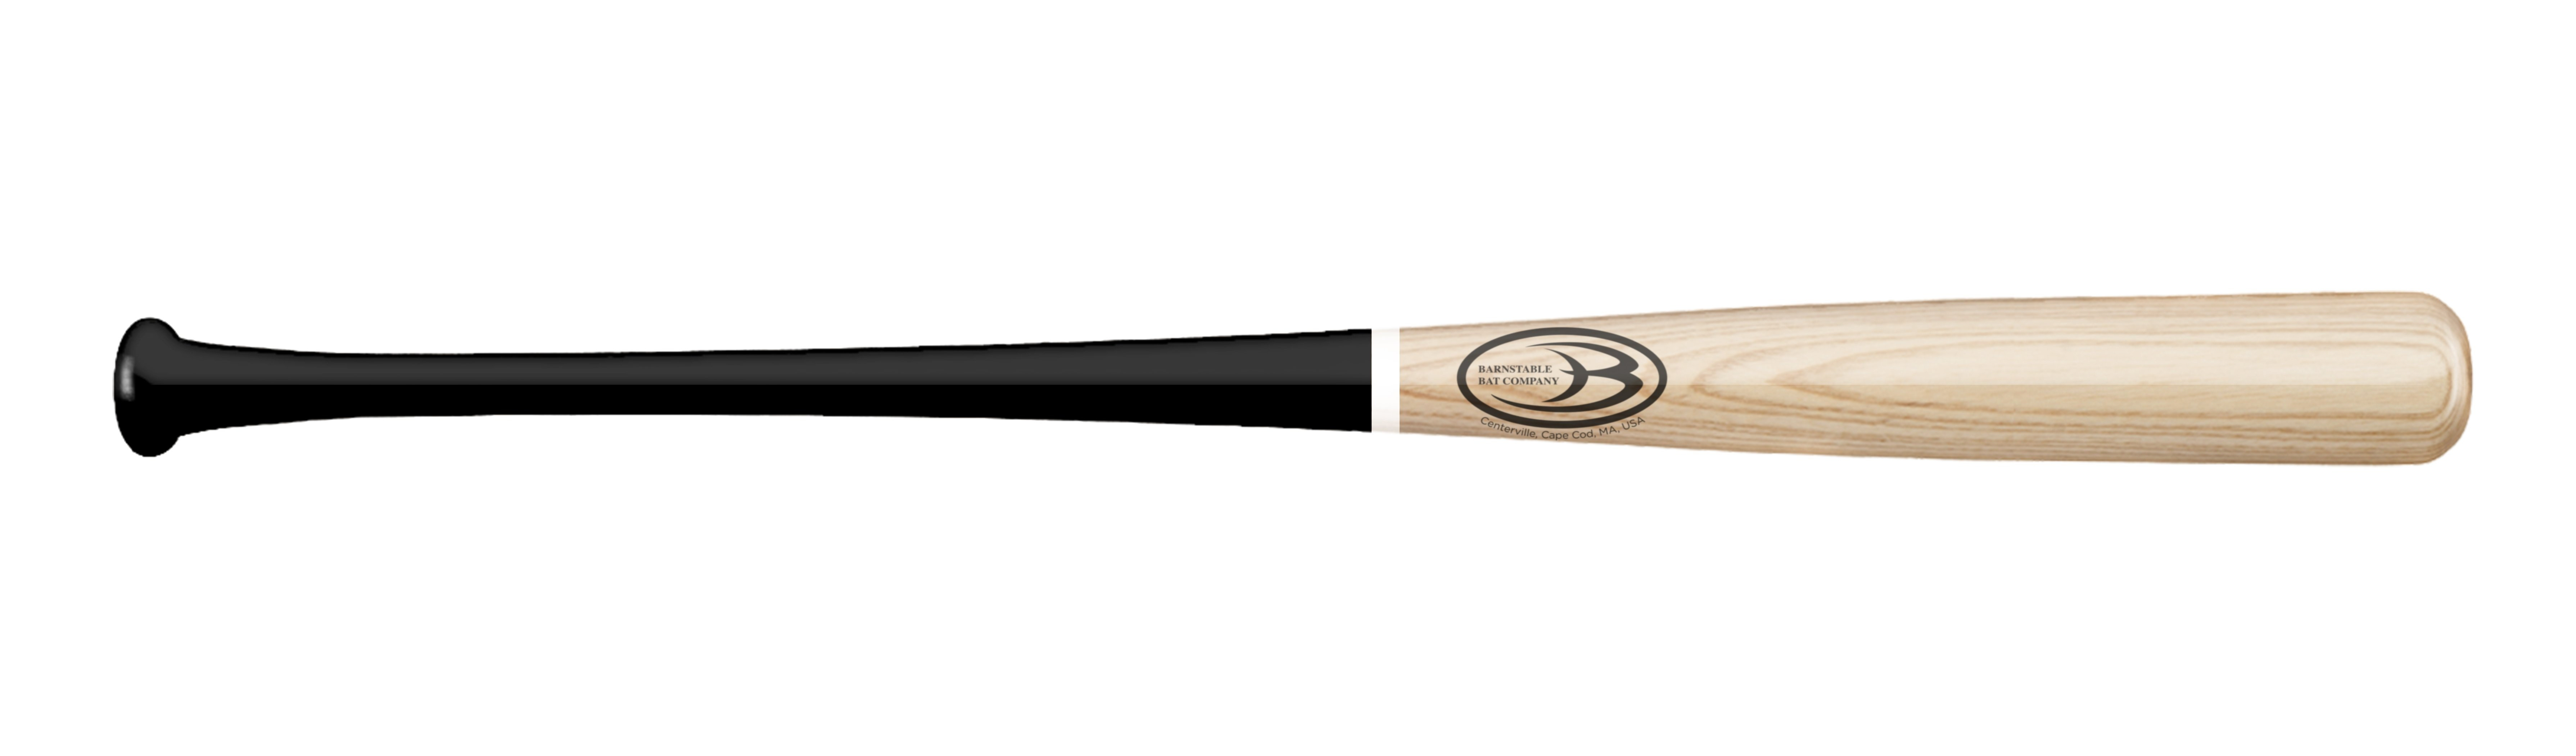bita: (95, 284, 2471, 483)
